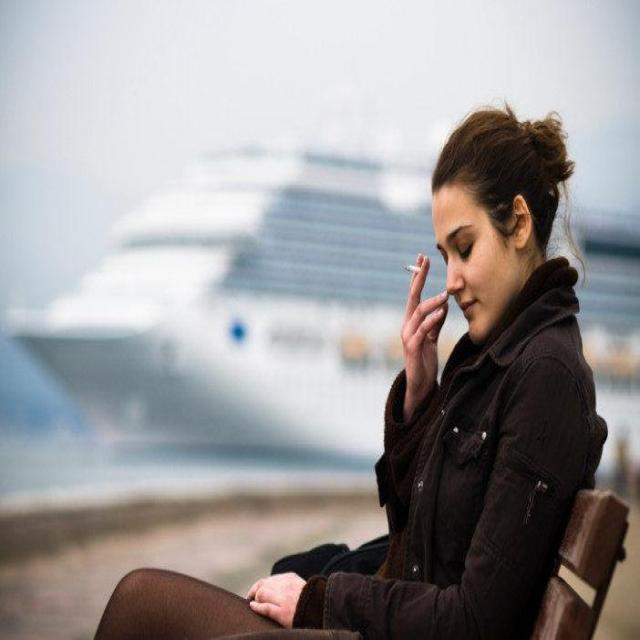Сигарета: (404, 262, 424, 275)
Тело: (100, 111, 603, 640)
